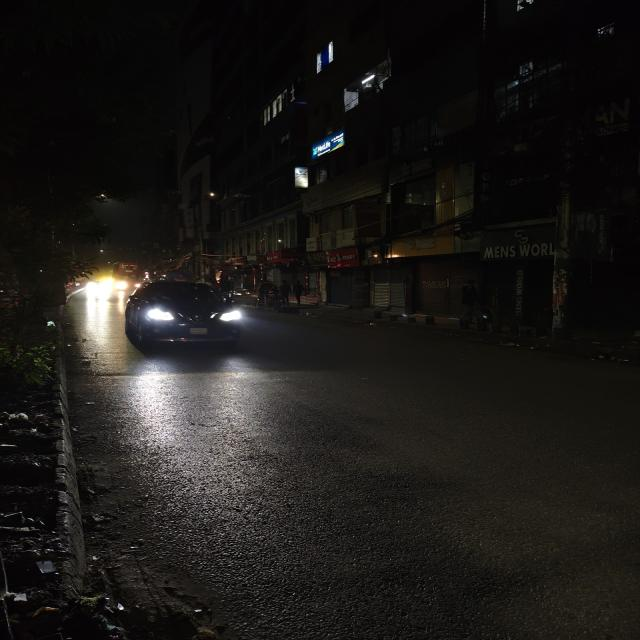bus: (113, 260, 140, 292)
car: (118, 278, 253, 356)
pedestrian: (290, 278, 308, 305)
rickshaw: (254, 280, 286, 315)
